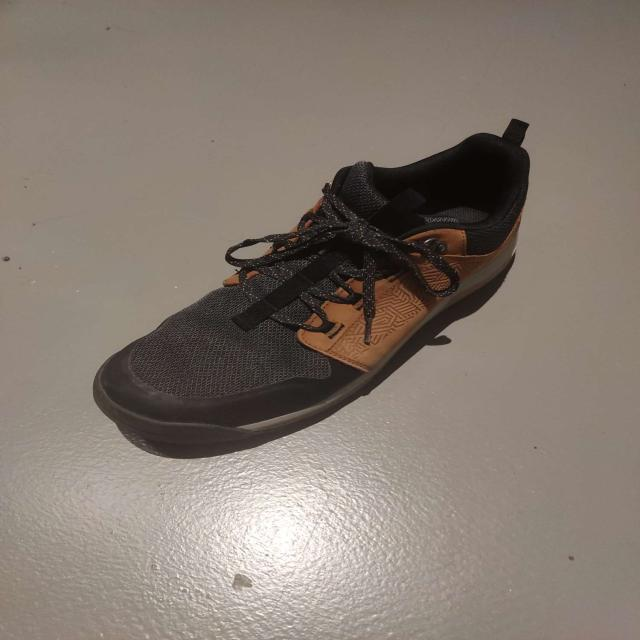shoe: (89, 130, 535, 448)
